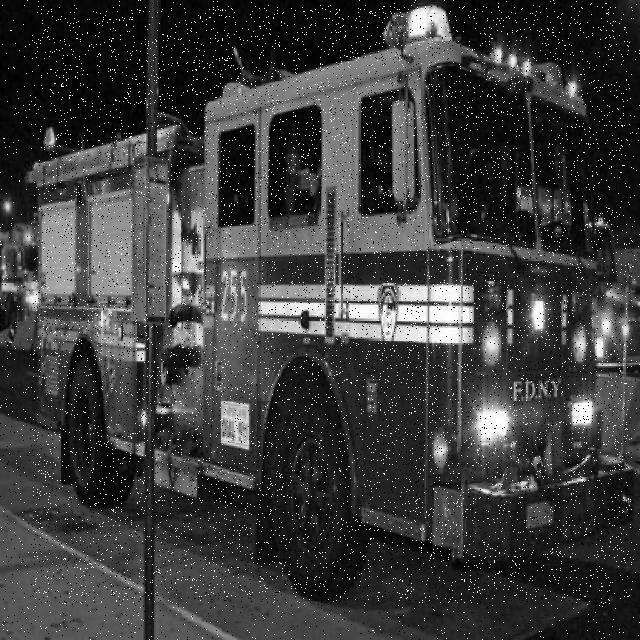Fire Truck: (33, 6, 632, 603)
